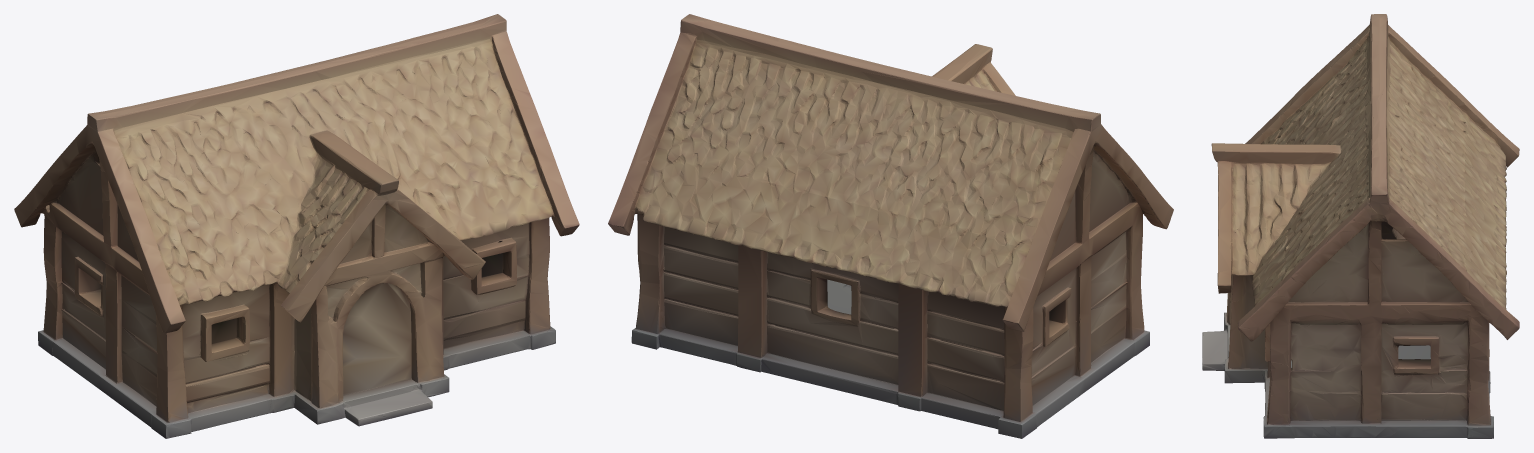
The model's file is nordic-hut_lod2.glb.
The picture shows the model from 3 angles, left to right: view 1: azimuth 30°, elevation 25°; view 2: azimuth 150°, elevation 25°; view 3: azimuth 270°, elevation 25°; orthographic projection. The views are drawn at different scales.
Parts seen in each view (by area): view 1: geometry_0; view 2: geometry_0; view 3: geometry_0.
Boxes of the visible parts, x1,y1,x2,y2 form: geometry_0: [14, 14, 579, 438]; geometry_0: [608, 14, 1173, 438]; geometry_0: [1202, 14, 1519, 438].
Size of the model in its own units: 1 by 0.6497 by 0.7457.
